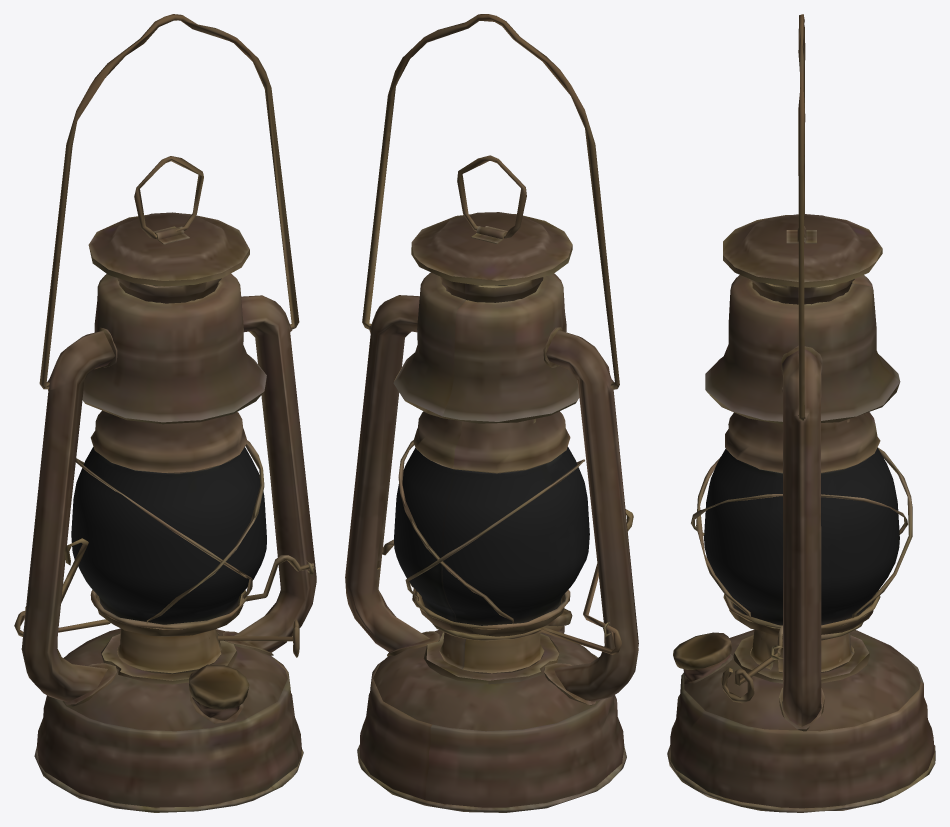
Rendered from lantern_01.glb.
3 views of the same model, side by side, from view 1: azimuth 30°, elevation 25°; view 2: azimuth 150°, elevation 25°; view 3: azimuth 270°, elevation 25° (orthographic).
Visible parts, largest first — view 1: Lantern_01, Lantern_01_glass; view 2: Lantern_01, Lantern_01_glass; view 3: Lantern_01, Lantern_01_glass.
Part boxes in pixels (bbox=[...]): Lantern_01: bbox=[14, 14, 316, 812]; Lantern_01_glass: bbox=[71, 447, 266, 624]; Lantern_01: bbox=[345, 14, 638, 812]; Lantern_01_glass: bbox=[394, 446, 589, 625]; Lantern_01: bbox=[667, 14, 935, 812]; Lantern_01_glass: bbox=[704, 447, 899, 625].
Size of the model in its own units: 0.1221 by 0.2942 by 0.0967.
2 materials, 2 textured.
